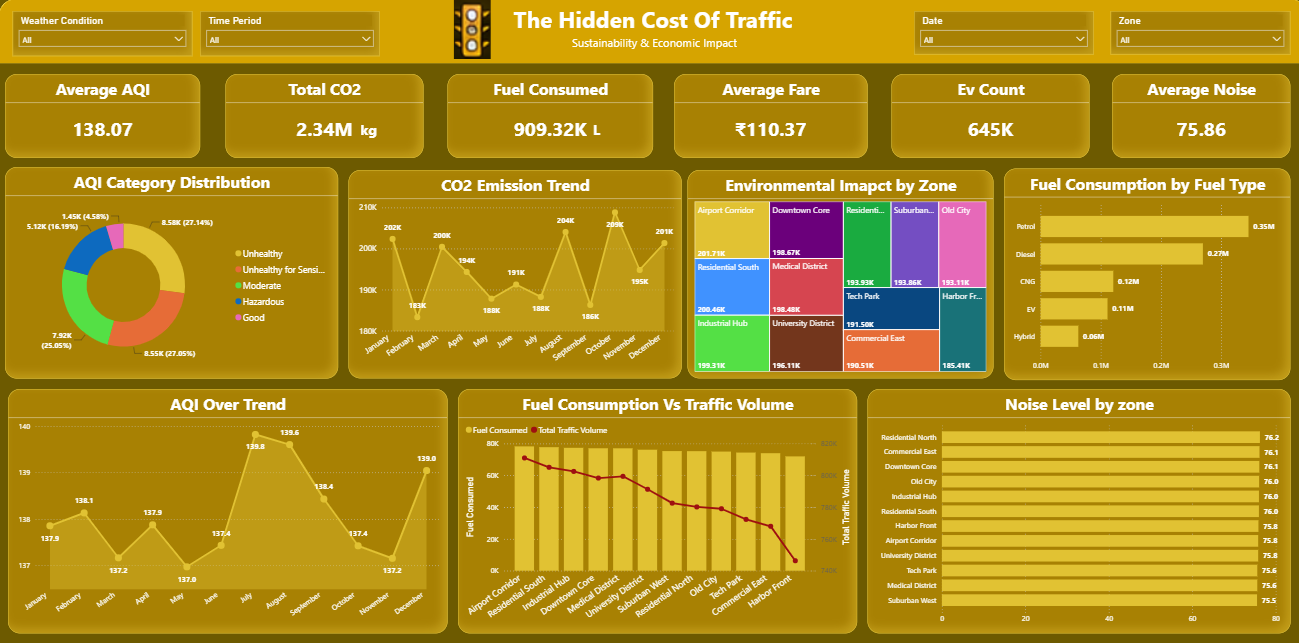

Layout of this report page (visuals, bound fields, positions):
{"tool":"powerbi","page":{"name":"Hidden Cost ","canvas":[2170,1080],"ordinal":2},"visuals":[{"type":"card","title":"Average AQI","fields":{"Values":["smart_city_traffic_final.Avg AQI"]},"box":[10,125,325,140],"z":0},{"type":"donutChart","title":"AQI Category Distribution","fields":{"Y":["CountNonNull(smart_city_traffic_final.aqi_category)"],"Category":["smart_city_traffic_final.aqi_category"]},"box":[10,280,555,352.5],"z":1000},{"type":"areaChart","title":" AQI Over Trend","fields":{"Category":["smart_city_traffic_final.date.Variation.Date Hierarchy.Month","smart_city_traffic_final.date.Variation.Date Hierarchy.Day"],"Y":["smart_city_traffic_final.Avg AQI"]},"box":[15,650,732.5,407.5],"z":2000},{"type":"lineChart","title":"CO2 Emission Trend","fields":{"Category":["smart_city_traffic_final.date.Variation.Date Hierarchy.Month","smart_city_traffic_final.date.Variation.Date Hierarchy.Day"],"Y":["smart_city_traffic_final.Total CO2"]},"box":[582.5,285,555,347.5],"z":3000},{"type":"barChart","title":"Fuel Consumption by Fuel Type","fields":{"Category":["smart_city_traffic_final.dominant_fuel_type"],"Y":["smart_city_traffic_final.Fuel Consumed"]},"box":[1675,282.5,477.5,352.5],"z":4000},{"type":"lineClusteredColumnComboChart","title":"Fuel Consumption Vs Traffic Volume","fields":{"Category":["smart_city_traffic_final.zone"],"Y":["smart_city_traffic_final.Fuel Consumed"],"Y2":["smart_city_traffic_final.Total Traffic Volume"]},"box":[765,650,665,407.5],"z":5000},{"type":"clusteredBarChart","title":"Noise Level by zone","fields":{"Category":["smart_city_traffic_final.zone"],"Y":["smart_city_traffic_final.Avg Noise"]},"box":[1447.5,650,705,407.5],"z":6000},{"type":"shape","box":[0,0,2180,107.5],"z":7000},{"type":"card","title":"Total CO2","fields":{"Values":["smart_city_traffic_final.Total CO2"]},"box":[377.5,125,330,140],"z":8000},{"type":"card","title":"Fuel Consumed","fields":{"Values":["smart_city_traffic_final.Fuel Consumed"]},"box":[747.5,125,342.5,140],"z":9000},{"type":"card","title":"Average Fare","fields":{"Values":["smart_city_traffic_final.Avg Fare"]},"box":[1125,125,322.5,140],"z":10000},{"type":"card","title":"Ev Count","fields":{"Values":["smart_city_traffic_final.EV Count"]},"box":[1487.5,125,330,140],"z":11000},{"type":"card","title":"Average Noise","fields":{"Values":["smart_city_traffic_final.Avg Noise"]},"box":[1855,125,297.5,140],"z":12000},{"type":"treemap","title":"Environmental Imapct by Zone","fields":{"Group":["smart_city_traffic_final.zone"],"Values":["smart_city_traffic_final.Total CO2"]},"box":[1147.5,285,510,347.5],"z":13000},{"type":"textbox","box":[950,195,92.5,52.5],"z":14000},{"type":"textbox","box":[542.5,195,147.5,85],"z":15000},{"type":"slicer","fields":{"Values":["smart_city_traffic_final.date"]},"box":[1525,20,300,72.5],"z":16000},{"type":"slicer","fields":{"Values":["smart_city_traffic_final.zone"]},"box":[1852.5,20,300,72.5],"z":17000},{"type":"slicer","fields":{"Values":["smart_city_traffic_final.weather_condition"]},"box":[22.5,20,300,75],"z":18000},{"type":"slicer","fields":{"Values":["smart_city_traffic_final.Time Period"]},"box":[335,20,300,75],"z":19000},{"type":"textbox","box":[920,55,345,37.5],"z":20000},{"type":"image","box":[707.5,0,162.5,100],"z":21000}]}

Visuals, with their boxes in screenshot pixels (x1, y1, x2, y2), scaled from the page's 2170x1080 canvas onto the 1299x643 screenshot:
"Average AQI" card: {"x1": 6, "y1": 74, "x2": 201, "y2": 158}
"AQI Category Distribution" donutChart: {"x1": 6, "y1": 167, "x2": 338, "y2": 377}
" AQI Over Trend" areaChart: {"x1": 9, "y1": 387, "x2": 447, "y2": 630}
"CO2 Emission Trend" lineChart: {"x1": 349, "y1": 170, "x2": 681, "y2": 377}
"Fuel Consumption by Fuel Type" barChart: {"x1": 1003, "y1": 168, "x2": 1289, "y2": 378}
"Fuel Consumption Vs Traffic Volume" lineClusteredColumnComboChart: {"x1": 458, "y1": 387, "x2": 856, "y2": 630}
"Noise Level by zone" clusteredBarChart: {"x1": 866, "y1": 387, "x2": 1289, "y2": 630}
shape: {"x1": 0, "y1": 0, "x2": 1298, "y2": 64}
"Total CO2" card: {"x1": 226, "y1": 74, "x2": 424, "y2": 158}
"Fuel Consumed" card: {"x1": 447, "y1": 74, "x2": 652, "y2": 158}
"Average Fare" card: {"x1": 673, "y1": 74, "x2": 866, "y2": 158}
"Ev Count" card: {"x1": 890, "y1": 74, "x2": 1088, "y2": 158}
"Average Noise" card: {"x1": 1110, "y1": 74, "x2": 1289, "y2": 158}
"Environmental Imapct by Zone" treemap: {"x1": 687, "y1": 170, "x2": 992, "y2": 377}
textbox: {"x1": 569, "y1": 116, "x2": 624, "y2": 147}
textbox: {"x1": 325, "y1": 116, "x2": 413, "y2": 167}
slicer - smart_city_traffic_final.date: {"x1": 913, "y1": 12, "x2": 1092, "y2": 55}
slicer - smart_city_traffic_final.zone: {"x1": 1109, "y1": 12, "x2": 1289, "y2": 55}
slicer - smart_city_traffic_final.weather_condition: {"x1": 13, "y1": 12, "x2": 193, "y2": 57}
slicer - smart_city_traffic_final.Time Period: {"x1": 201, "y1": 12, "x2": 380, "y2": 57}
textbox: {"x1": 551, "y1": 33, "x2": 757, "y2": 55}
image: {"x1": 424, "y1": 0, "x2": 521, "y2": 60}
